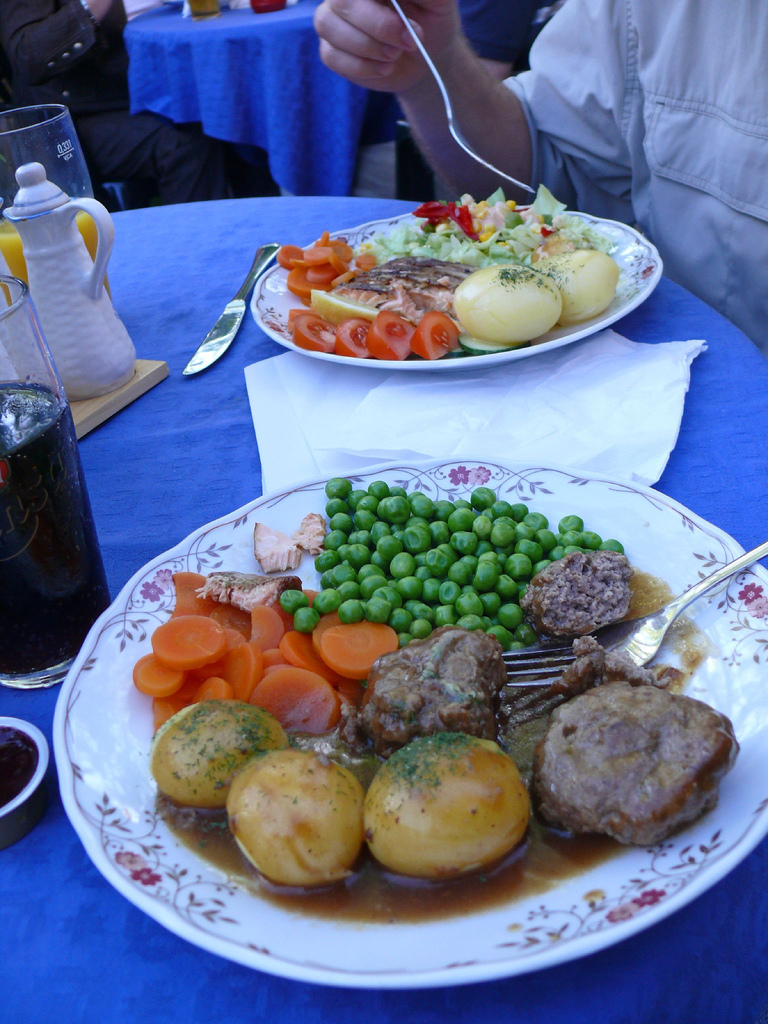boiled peas: (311, 478, 581, 634)
boiled potatoes: (370, 741, 527, 869), (233, 754, 355, 873), (151, 701, 285, 792), (455, 271, 560, 339), (551, 251, 618, 318)
